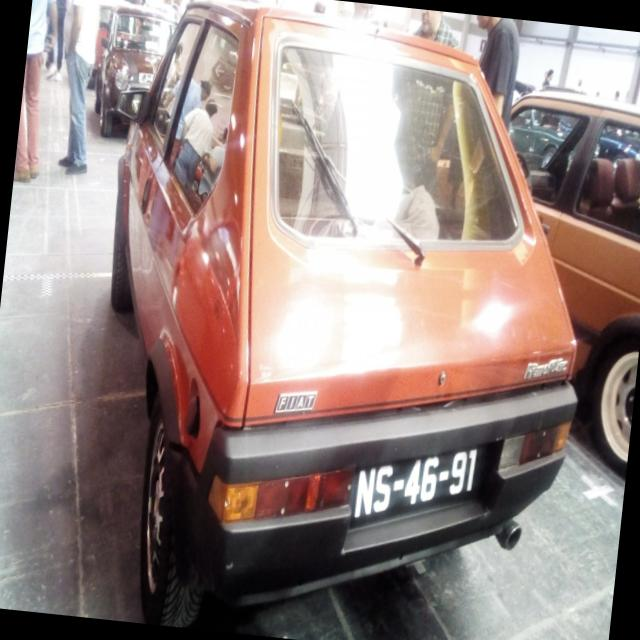portuguese-license-plates: (349, 445, 487, 528)
